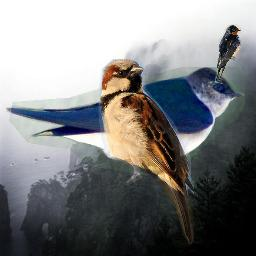Swallow: (6, 67, 245, 185), (98, 59, 194, 244), (214, 24, 241, 82)
